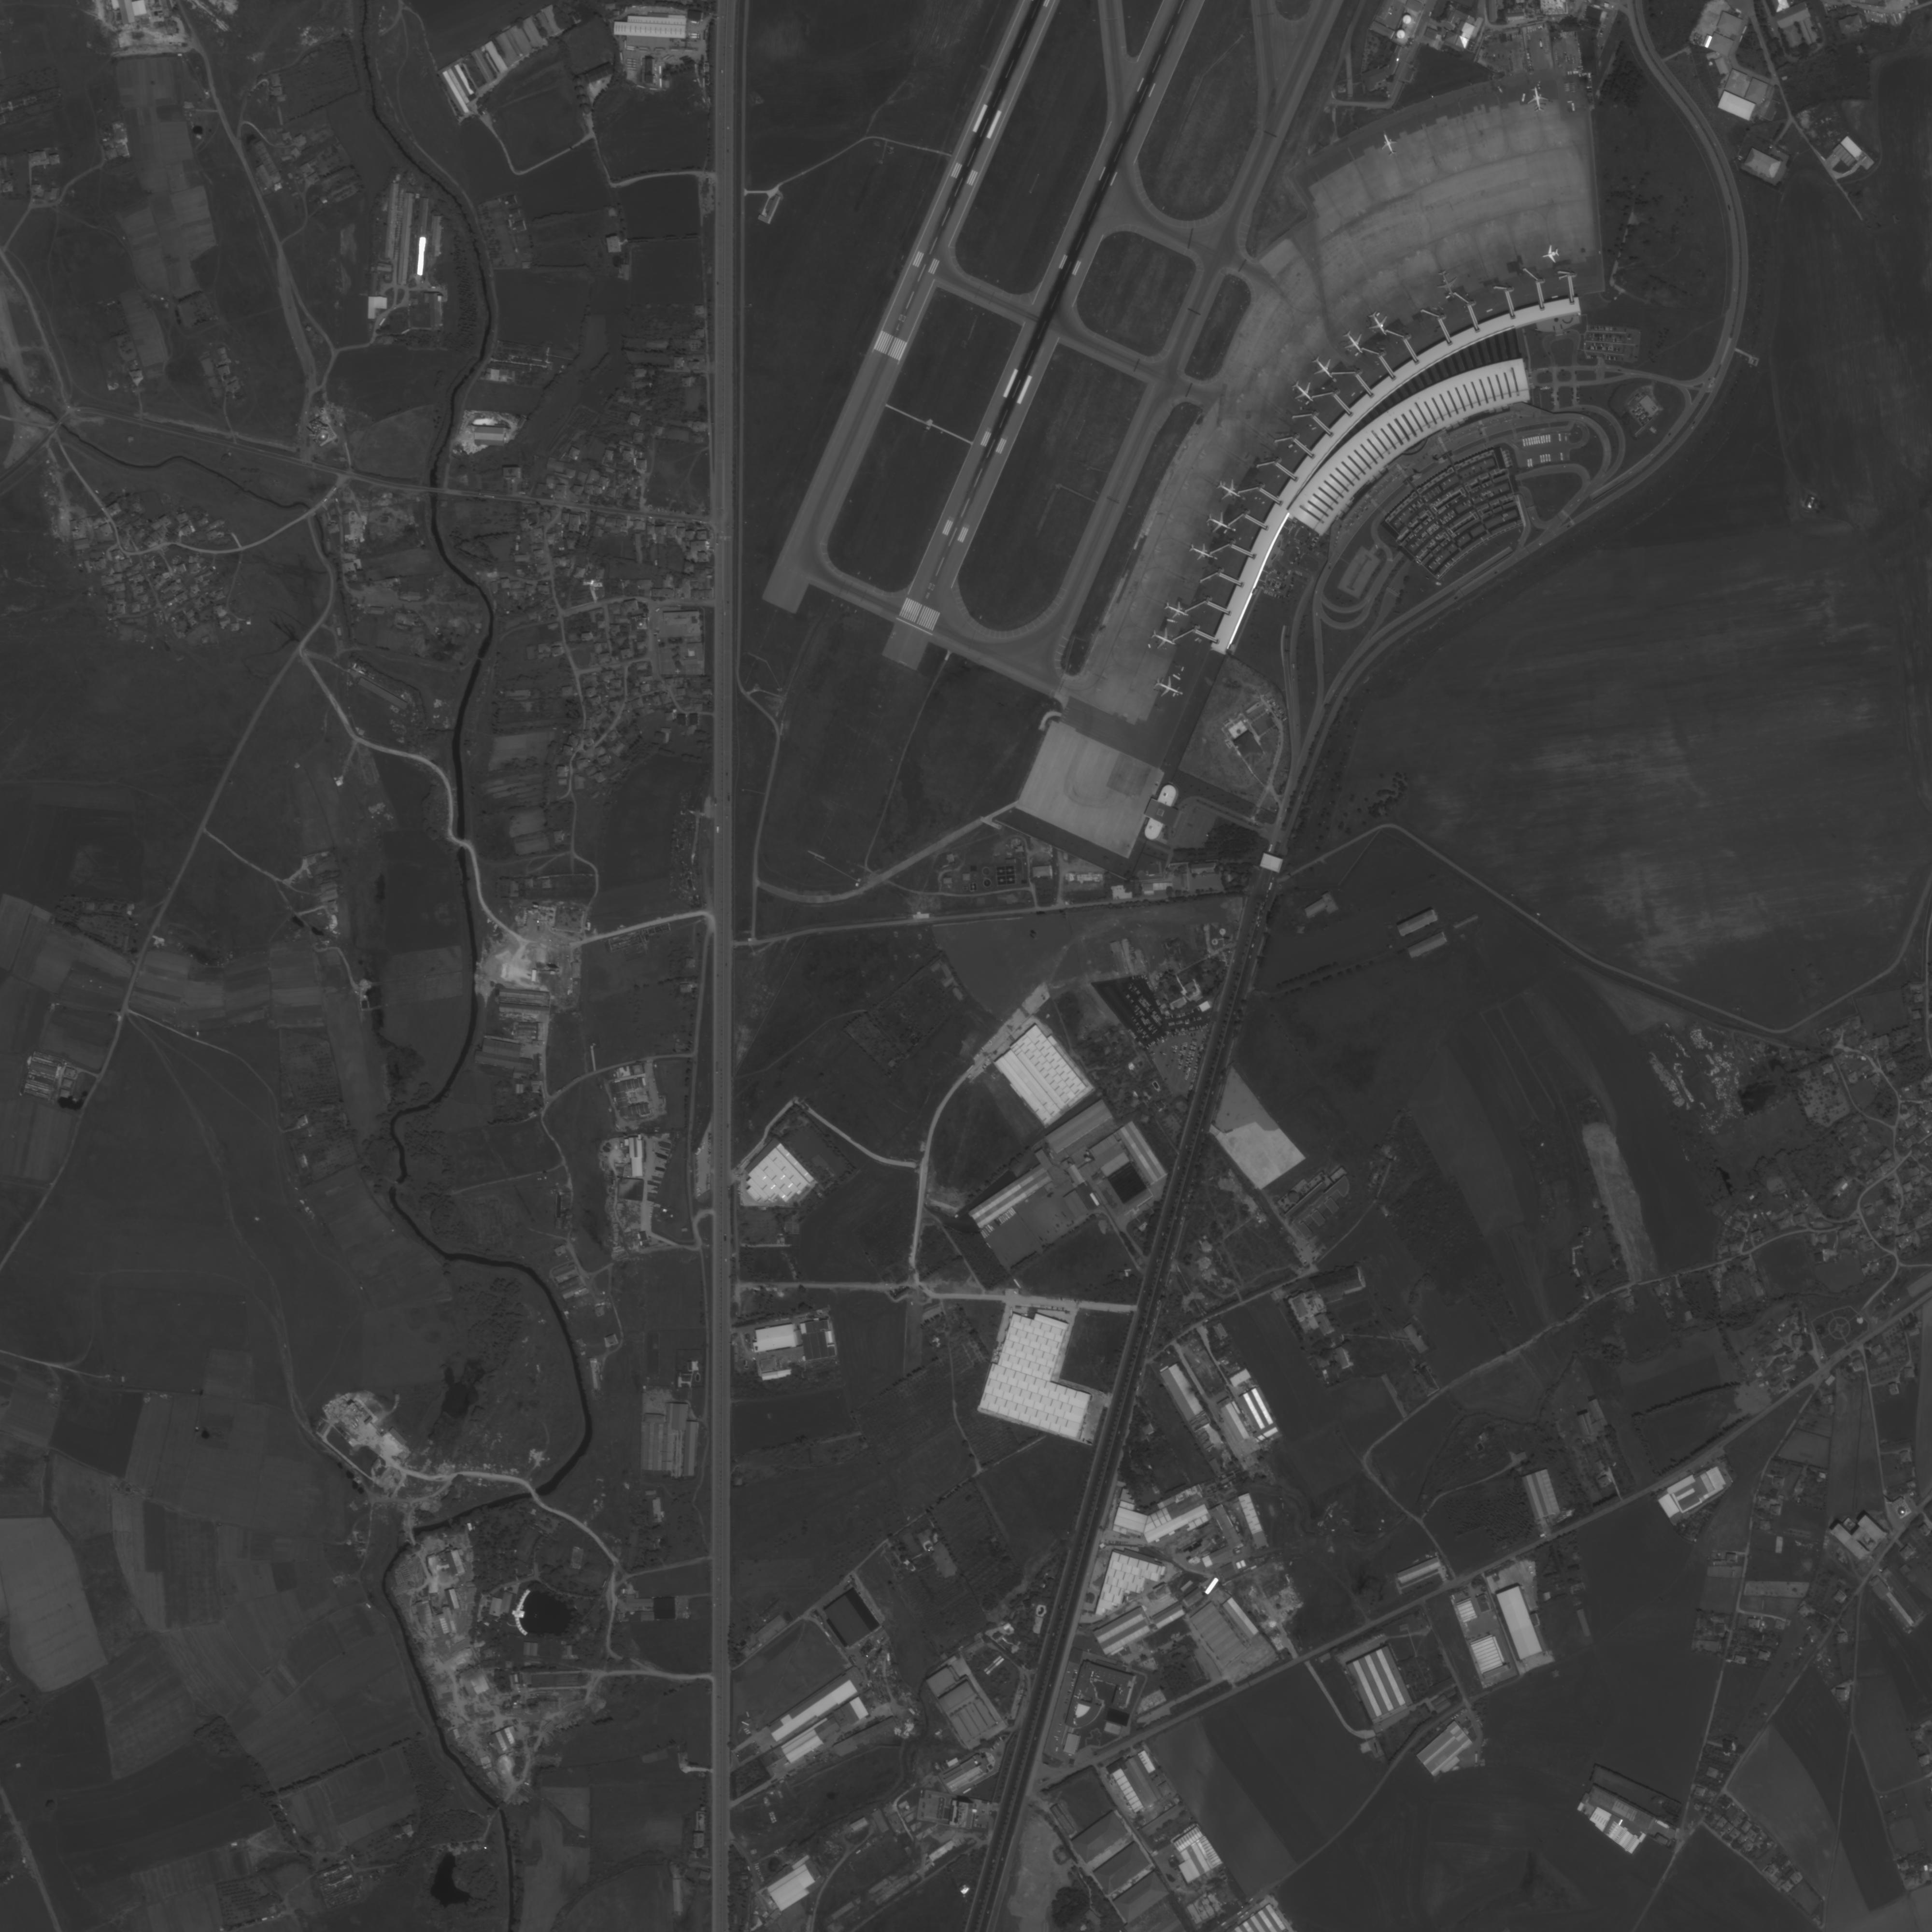plane: (1150, 671, 1189, 706), (1201, 506, 1238, 541), (1146, 625, 1182, 658), (1159, 594, 1194, 628), (1212, 476, 1247, 510), (1307, 352, 1341, 387), (1286, 375, 1320, 409), (1362, 308, 1396, 341), (1185, 538, 1221, 570), (1339, 327, 1371, 359), (1433, 267, 1463, 301), (1527, 85, 1552, 117), (1376, 131, 1403, 159), (1539, 244, 1562, 265)
